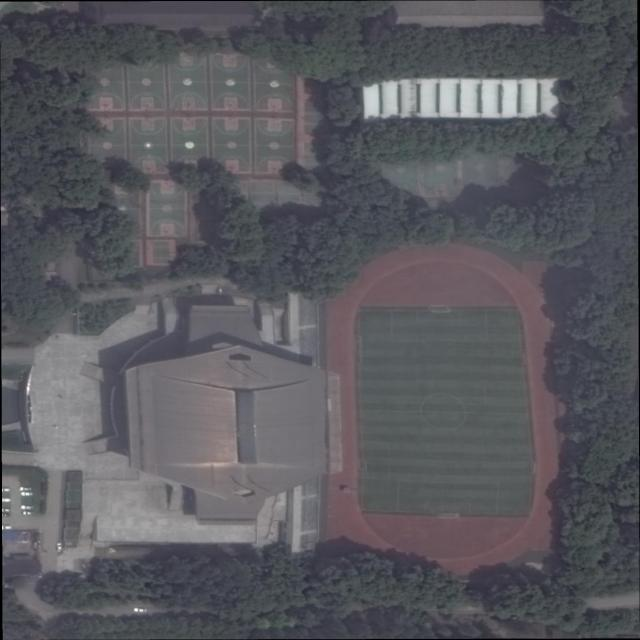small-vehicle: (19, 485, 30, 491), (21, 505, 34, 510), (57, 543, 63, 552), (22, 491, 31, 497), (134, 608, 146, 612), (22, 511, 33, 515)
